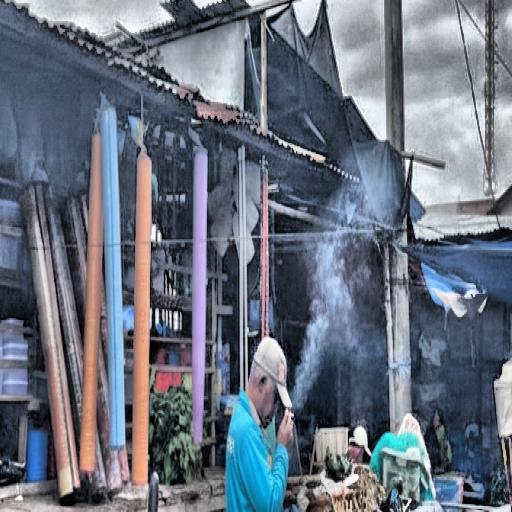Rokok: (226, 143, 411, 512)
